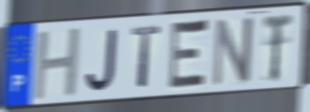E: (166, 17, 211, 92)
H: (31, 25, 83, 104)
J: (84, 27, 120, 94)
N: (210, 14, 256, 90)
T: (261, 11, 295, 85), (131, 24, 163, 91)
